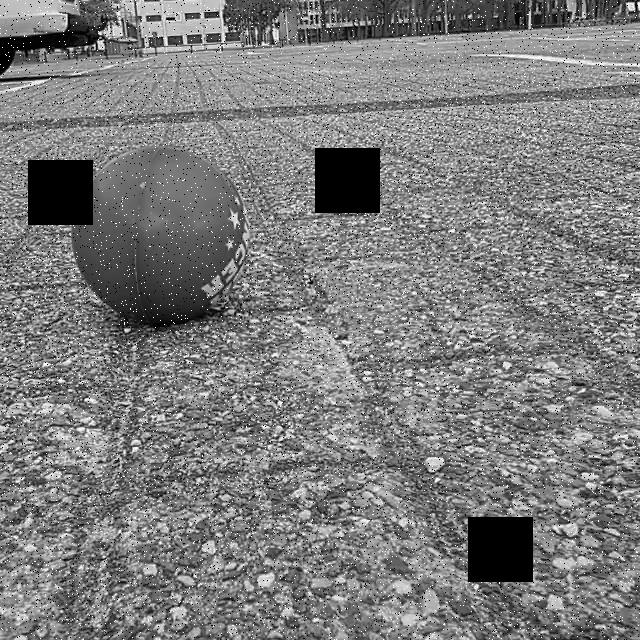ball: (72, 140, 250, 327)
